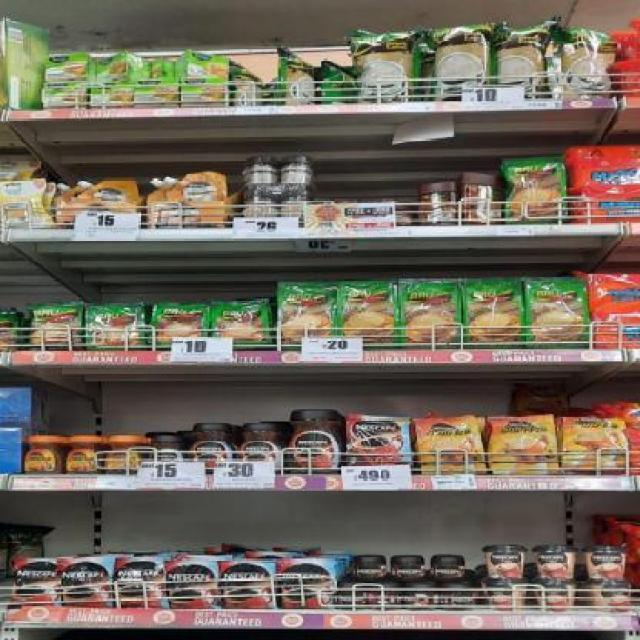Coffee: (489, 416, 556, 475), (417, 418, 486, 474), (561, 418, 627, 474), (286, 409, 342, 474), (350, 416, 411, 469), (279, 559, 330, 608), (61, 560, 111, 606), (116, 560, 166, 606), (239, 424, 286, 472), (222, 562, 270, 608), (192, 424, 236, 473), (12, 559, 58, 605), (169, 562, 216, 606), (143, 436, 186, 472), (24, 436, 63, 474), (104, 437, 140, 474), (65, 437, 100, 474), (442, 586, 478, 608), (403, 586, 436, 610), (335, 585, 366, 609), (355, 557, 385, 581), (430, 557, 464, 578), (392, 558, 424, 580), (368, 586, 397, 609)
